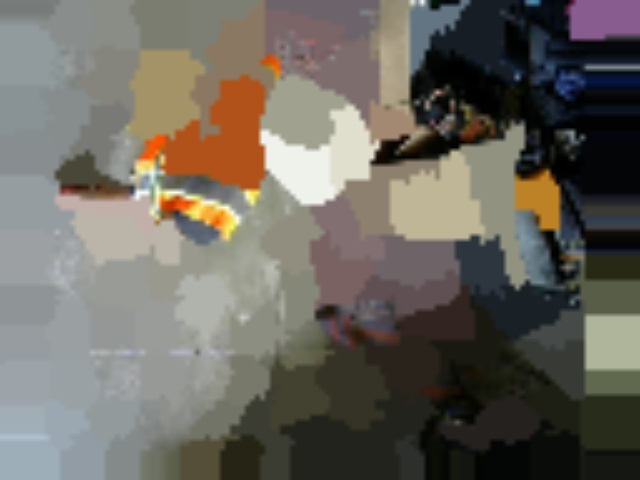one: (293, 102, 333, 148)
